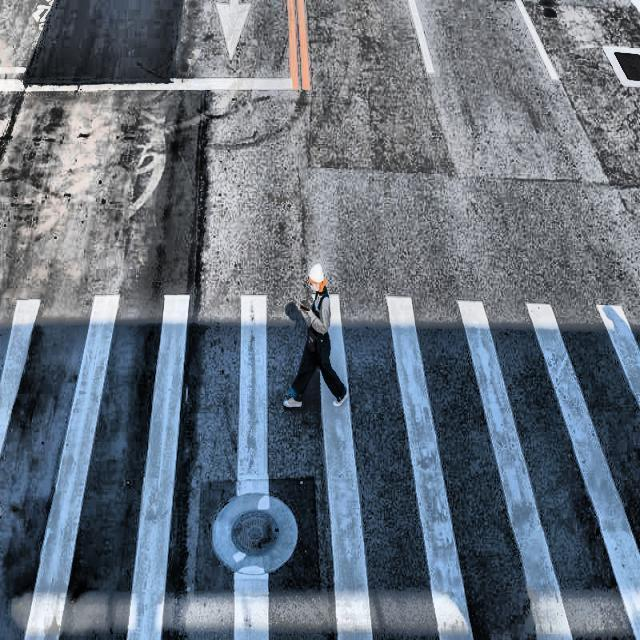crosswalk: (0, 298, 640, 640)
